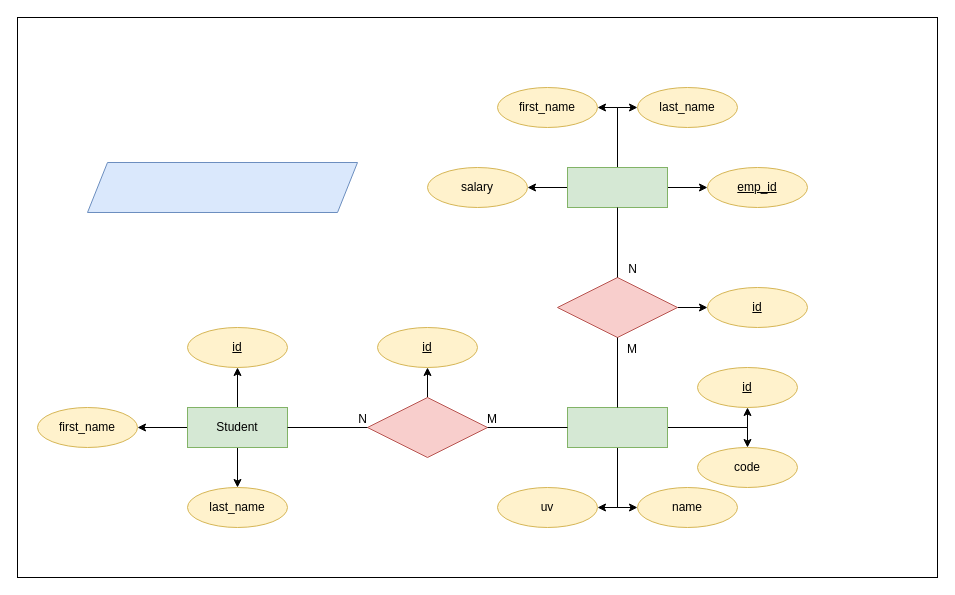
Image size: 955x595. Some labels were removed from this diagram. The centre of each missing label's shape, as x and y in pixels:
"Class" goes at point 617,427.
"Diagrama ER" goes at point 222,187.
"Enroll" goes at point 427,427.
"Teacher" goes at point 617,187.
"Work_on" goes at point 617,307.
